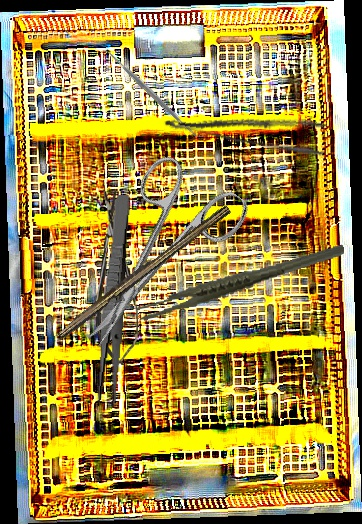Dressing Forceps: (162, 92, 329, 160), (94, 193, 132, 408)
Iris Scissors: (47, 144, 254, 372)
Micro Scissor: (93, 188, 139, 366)
Scalpel Handle: (54, 199, 232, 343)
Spatula Surgical: (99, 42, 206, 146)
Tissue Forceps: (131, 242, 350, 323)
